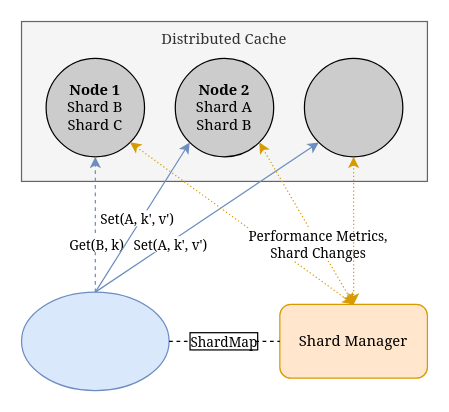
Image size: 449x412. Some labels were removed from this diagram. The shapes that lost their labels are listed below. From the top down, each one's centre as x and y in pixels, then its label:
At (x=353, y=107): "Node 3 Shard A Shard C".
At (x=94, y=341): "User Client".
